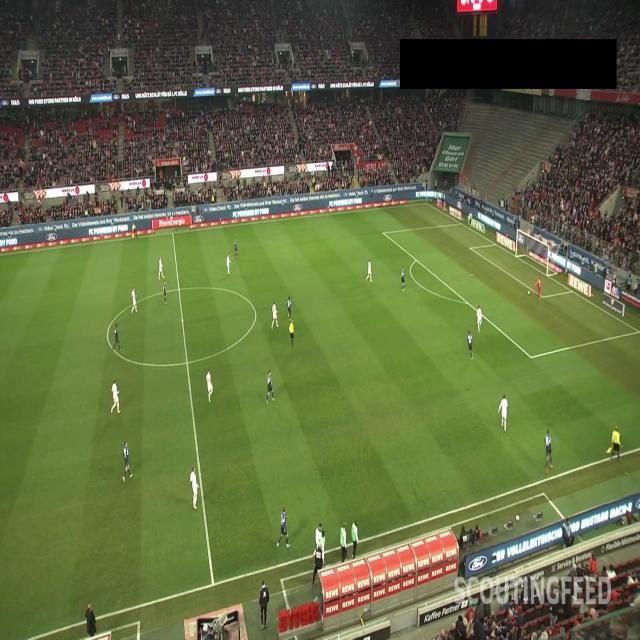ball: (527, 290, 531, 296)
goalkeeper: (536, 277, 542, 300)
player: (276, 506, 291, 548), (122, 440, 133, 482), (544, 428, 554, 473), (498, 394, 508, 432), (190, 466, 198, 510), (266, 369, 275, 404), (111, 379, 120, 414), (466, 329, 474, 361), (206, 369, 213, 403), (130, 286, 138, 314), (112, 322, 120, 350), (271, 300, 278, 330), (476, 304, 483, 333), (158, 257, 165, 280), (366, 258, 372, 283), (287, 295, 292, 320), (226, 254, 231, 275), (401, 266, 405, 292), (163, 280, 167, 303), (234, 238, 238, 258)
referee: (606, 425, 622, 462), (288, 318, 294, 348), (132, 222, 138, 239)
